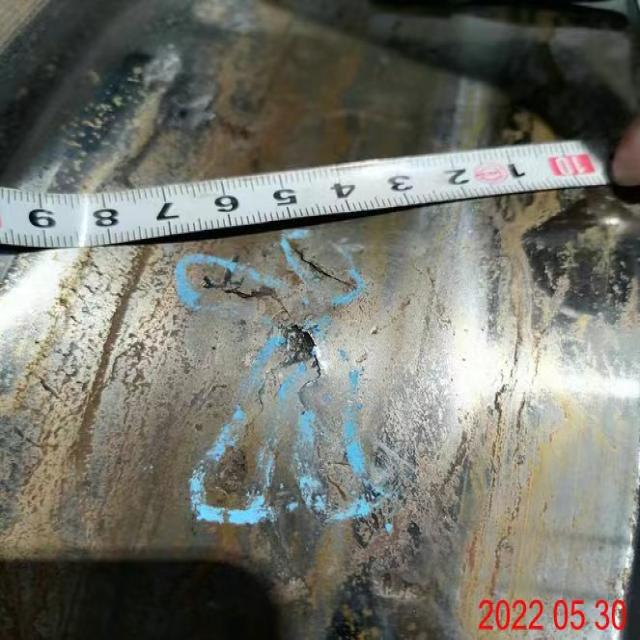Contact_Fatigue_Cracks: (214, 362, 299, 495), (317, 364, 371, 546), (205, 278, 316, 357), (292, 244, 358, 291)
